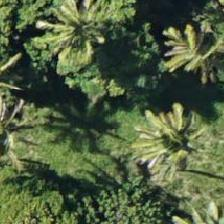coconut_tree: (128, 94, 218, 184), (140, 0, 223, 82), (41, 0, 131, 67)
